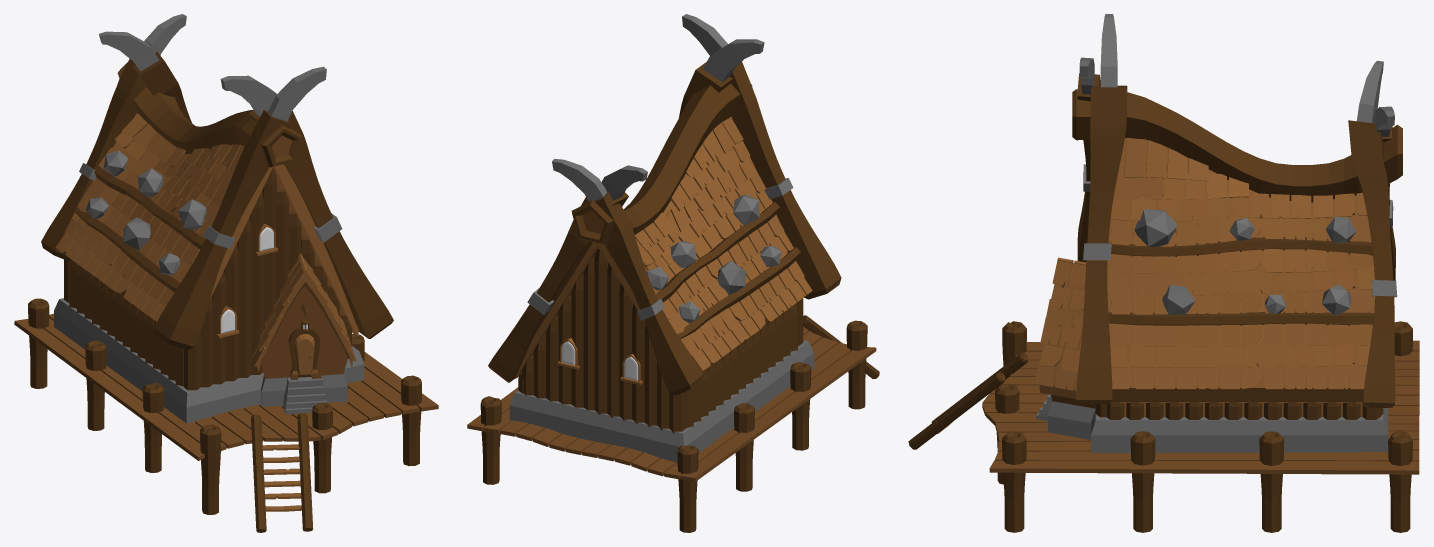
The model's file is A_BaseB.fbx.
3 views of the same model, side by side, from view 1: azimuth 30°, elevation 25°; view 2: azimuth 150°, elevation 25°; view 3: azimuth 270°, elevation 25° (orthographic). The views are drawn at different scales.
Visible parts, largest first — view 1: A_BaseB; view 2: A_BaseB; view 3: A_BaseB.
Part boxes in pixels (<box>): A_BaseB: <box>14,14,438,532</box>; A_BaseB: <box>467,14,879,532</box>; A_BaseB: <box>908,14,1419,532</box>.
Size of the model in its own units: 655 by 1049 by 1110.
